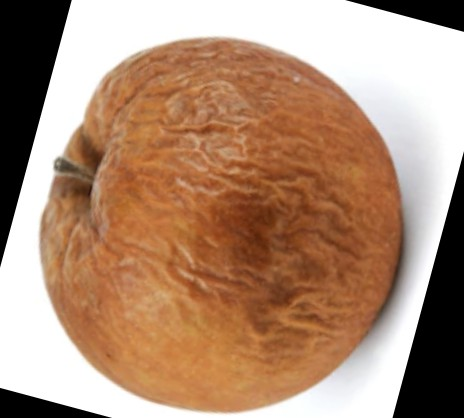rotten_apple: (40, 36, 404, 414)
